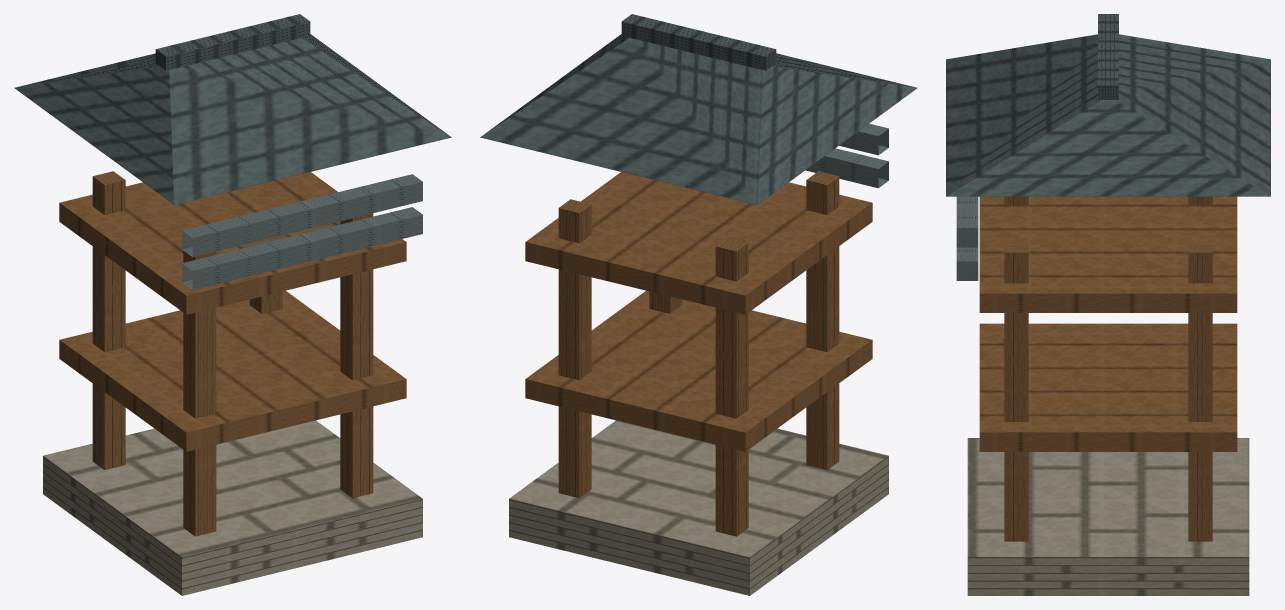
Rendered from military-CROSSBOW_TOWER-1-lod2.glb.
The picture shows the model from 3 angles, left to right: view 1: azimuth 30°, elevation 25°; view 2: azimuth 150°, elevation 25°; view 3: azimuth 270°, elevation 25°; orthographic projection.
Size of the model in its own units: 0.53 by 0.876 by 0.53.
Materials: 1 (1 with a texture image).
